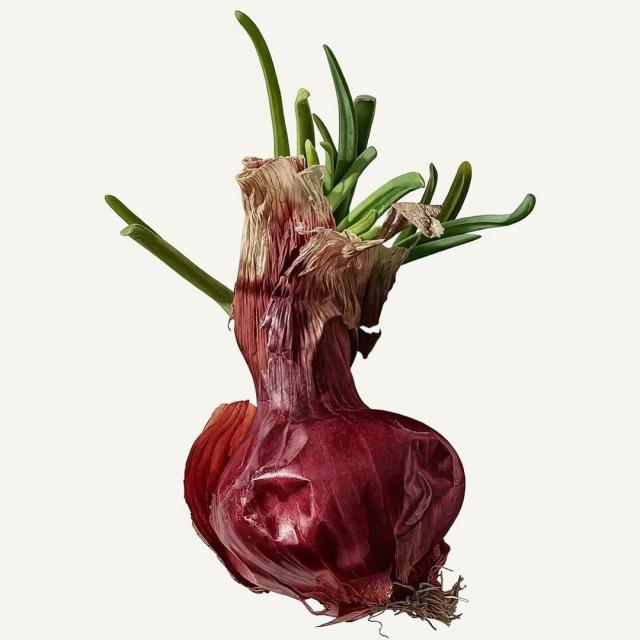sprouting: (49, 0, 614, 627)
